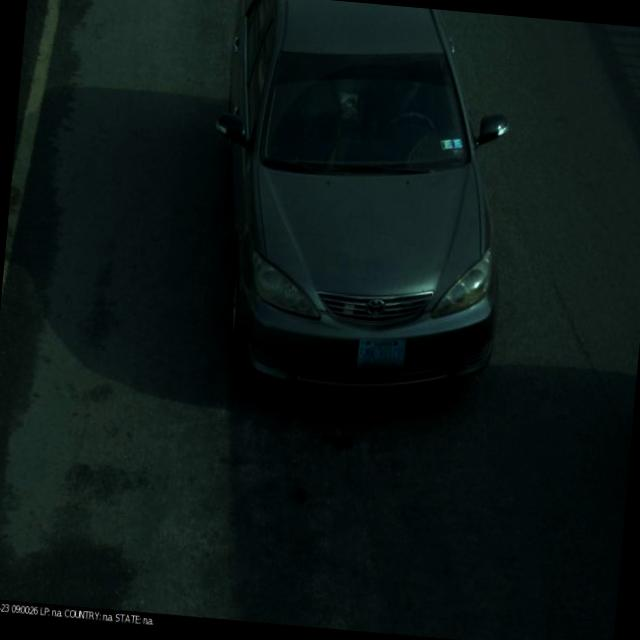person_with_seatbelt: (359, 64, 448, 144)
